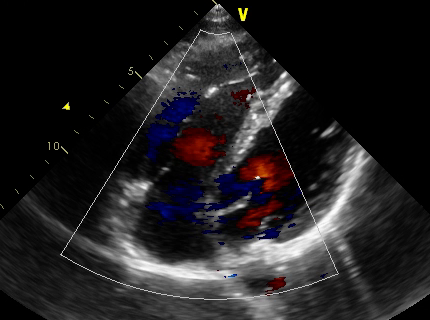TR: (157, 173, 229, 237)
